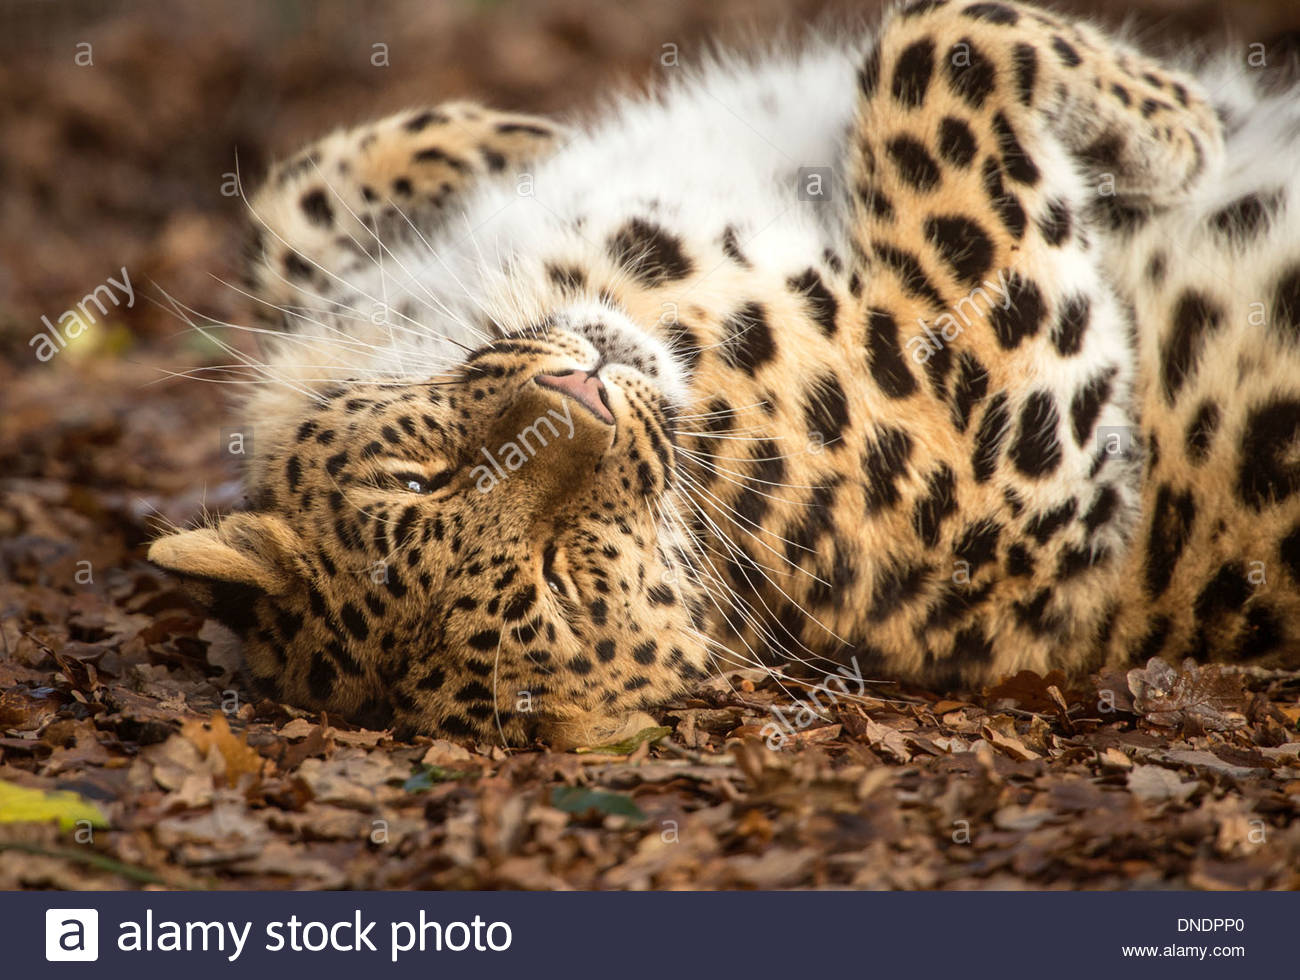Cheetah: (143, 10, 1300, 750)
